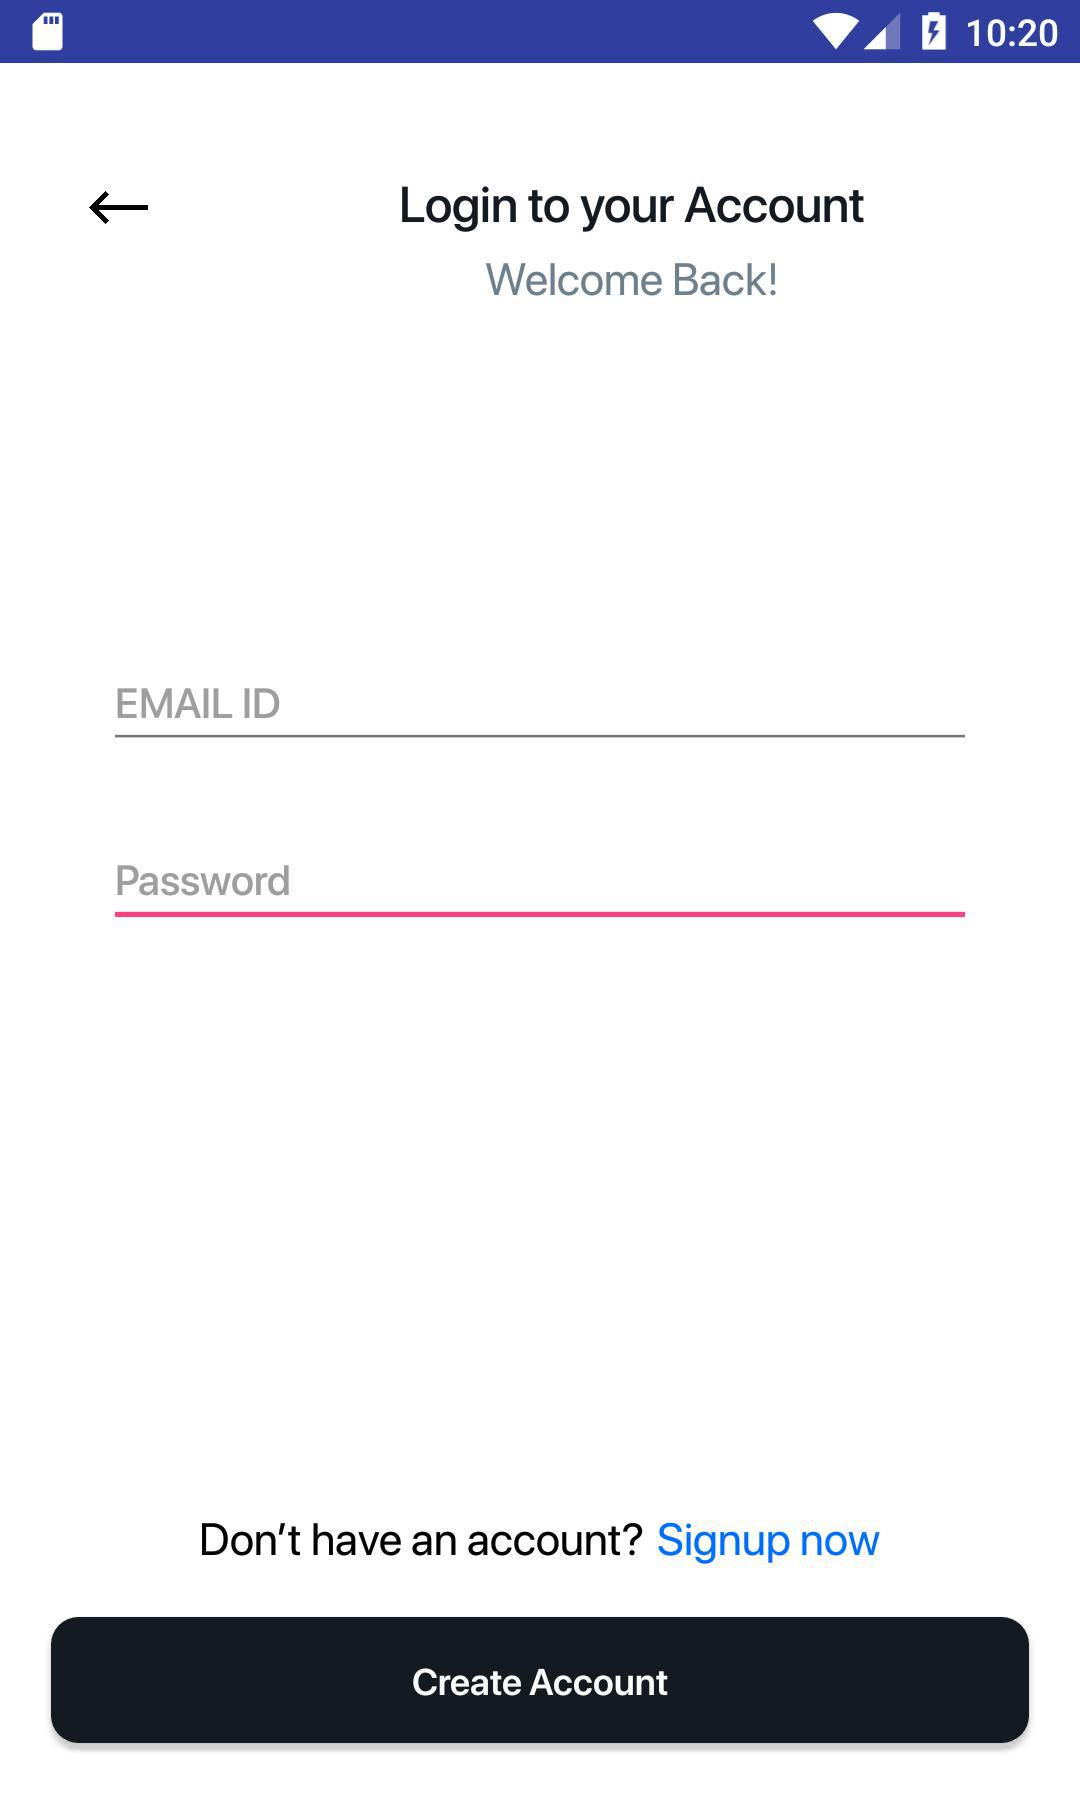EditText: (115, 864, 965, 918), (115, 688, 966, 739)
Icon: (88, 191, 150, 226)
Text: (402, 185, 865, 235), (486, 261, 776, 299), (118, 864, 291, 896), (117, 688, 281, 720)
TextButton: (51, 1616, 1030, 1744), (202, 1521, 881, 1565)
UpperTaskBar: (1, 1, 1080, 64)
